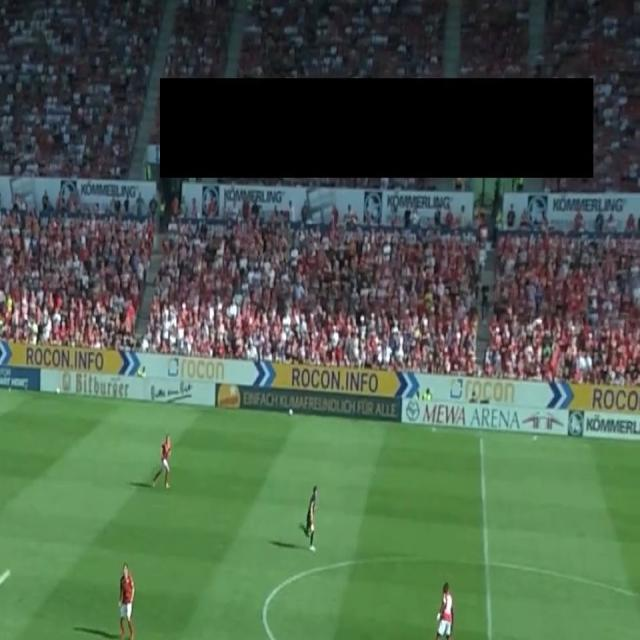ball: (0, 566, 11, 586)
